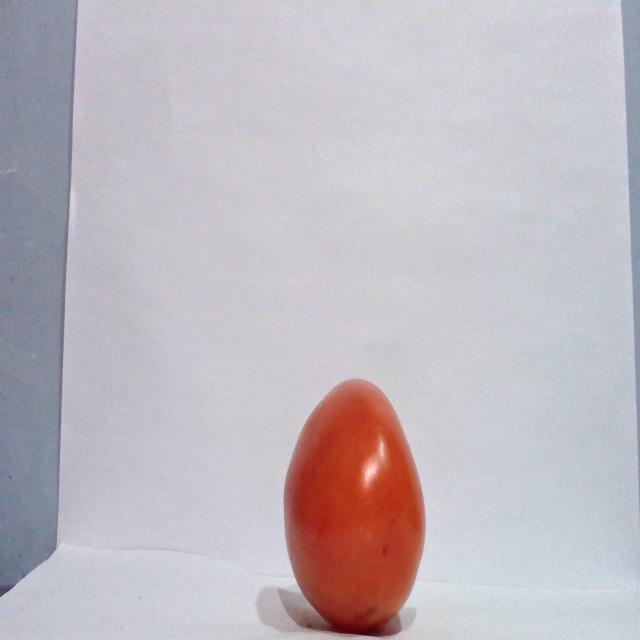Red: (281, 376, 426, 632)
